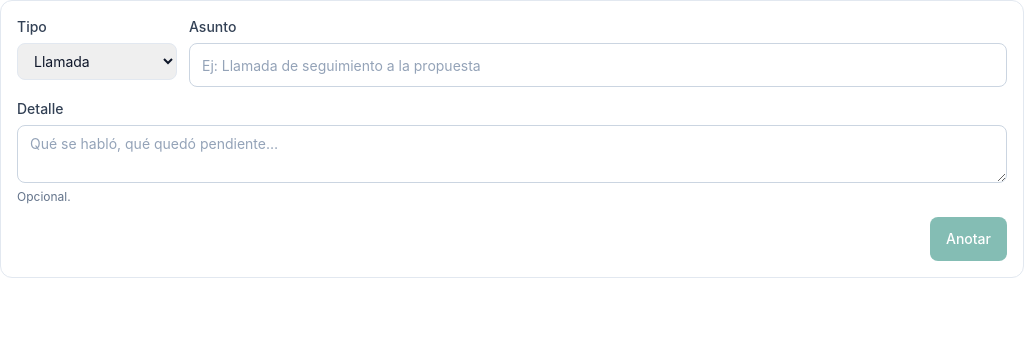
Test case: cuando el servidor rechaza › lo escrito SE QUEDA
Type "Llamada de seguimiento" into the field labelled "Asunto".
click(598, 65); type("Llamada de seguimiento")  # box [189,43,1007,87]
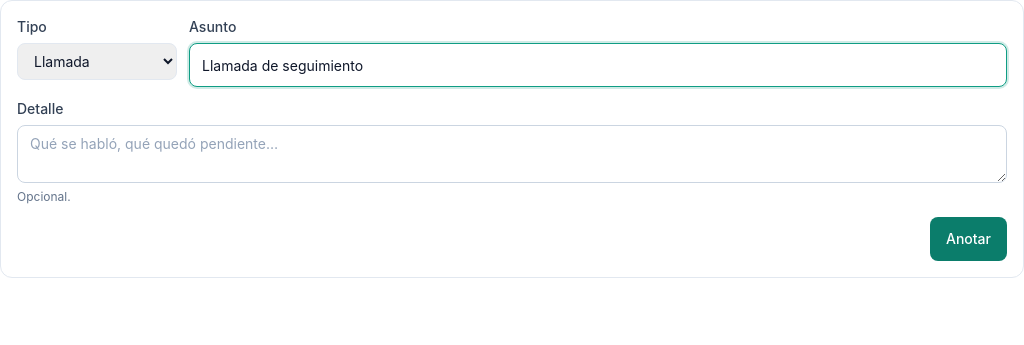
Click the button "Anotar".
click(968, 239)  # box [930,217,1007,261]
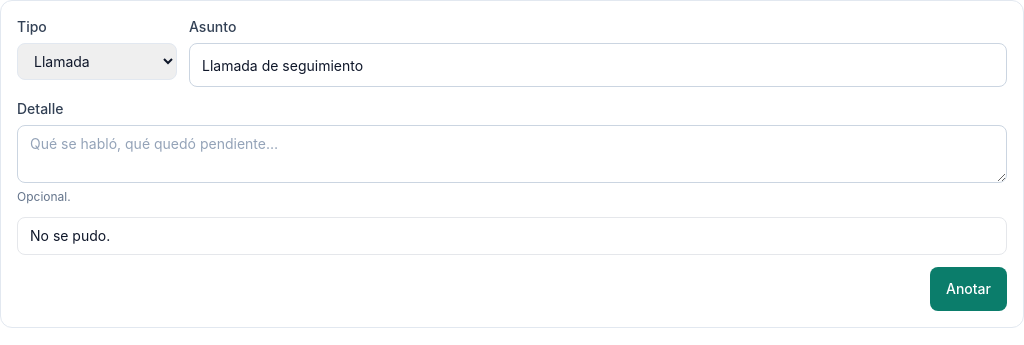
expect the message reads "No se pudo.": met, box [30,227,110,244]
